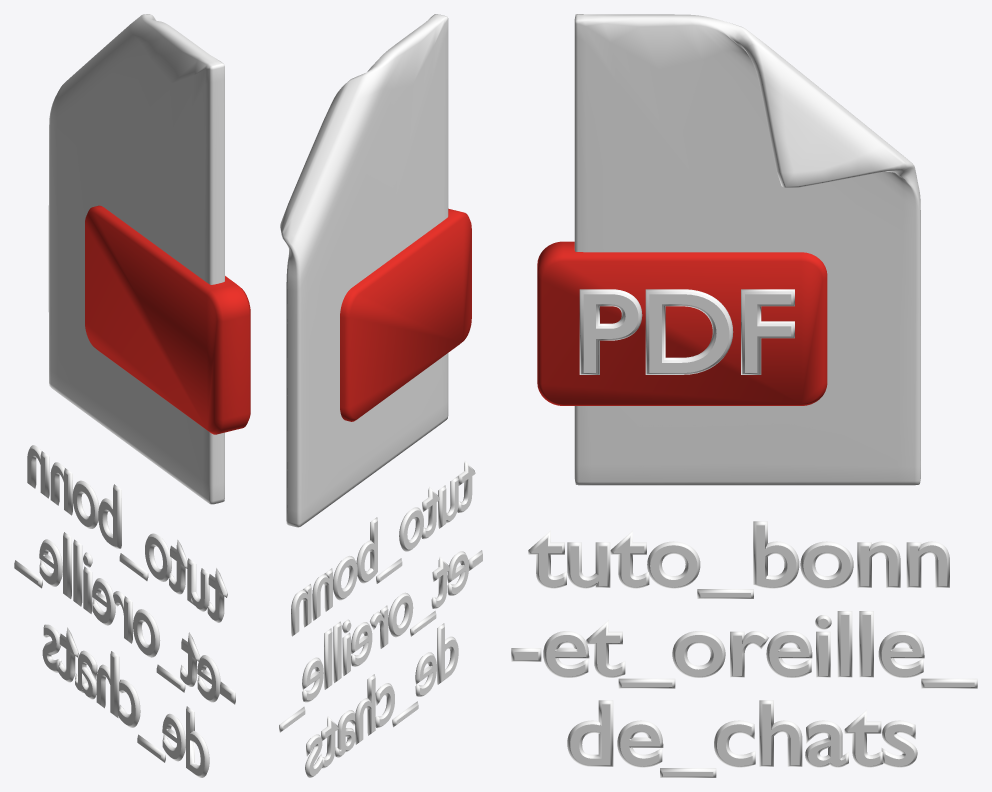
The model's file is PDF_tuto-bonnet-oreille-de-chats.fbx.
The picture shows the model from 3 angles, left to right: view 1: azimuth 30°, elevation 25°; view 2: azimuth 150°, elevation 25°; view 3: azimuth 270°, elevation 25°; orthographic projection. The views are drawn at different scales.
Parts seen in each view (by area): view 1: PDFName.001, Text.013; view 2: PDFName.001, Text.013; view 3: PDFName.001, Text.013.
Part boxes in pixels (left/top/right/bottom): PDFName.001: left=48, top=14, right=250, bottom=504; Text.013: left=14, top=445, right=235, bottom=777; PDFName.001: left=280, top=14, right=471, bottom=527; Text.013: left=279, top=461, right=482, bottom=777; PDFName.001: left=537, top=14, right=920, bottom=485; Text.013: left=511, top=521, right=977, bottom=777.
Bounding box in the file's own units: 59.34 × 570 × 314.
